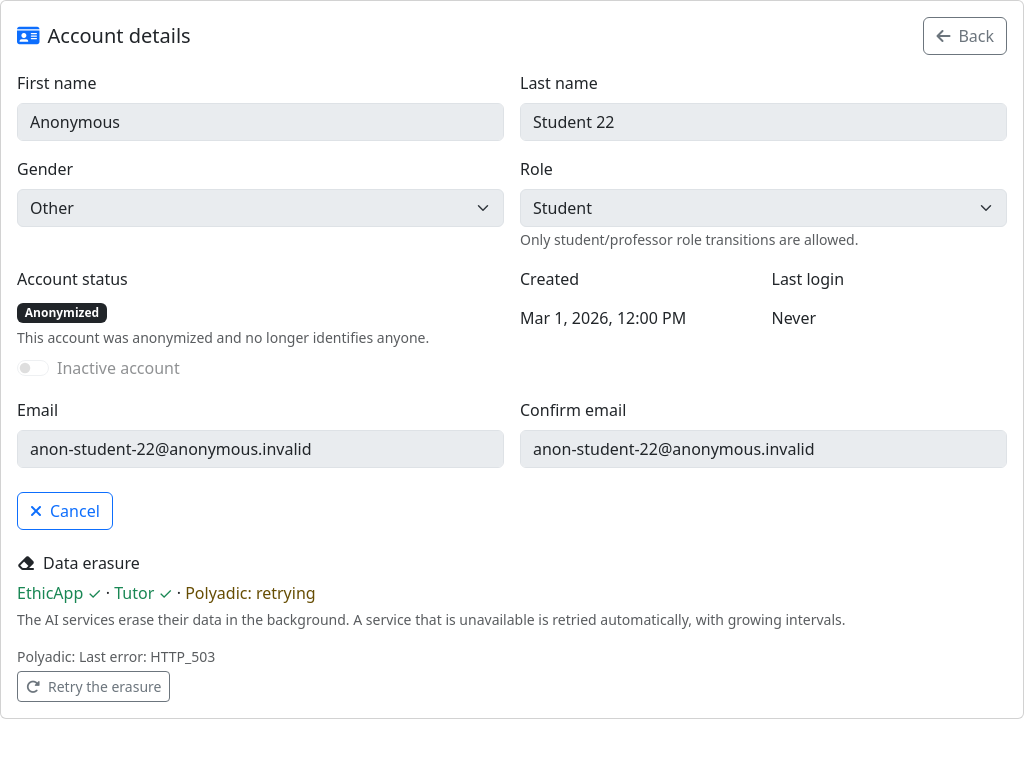
it: UserShowPage: erasure status of a forgotten student › shows each service and retries the ones that are not done
Expected: the text "Polyadic: Last error: HTTP_503" is shown, [17,647,215,666]
Step 1. Click the button "Retry the erasure" → (94, 687), box [17,671,170,702]
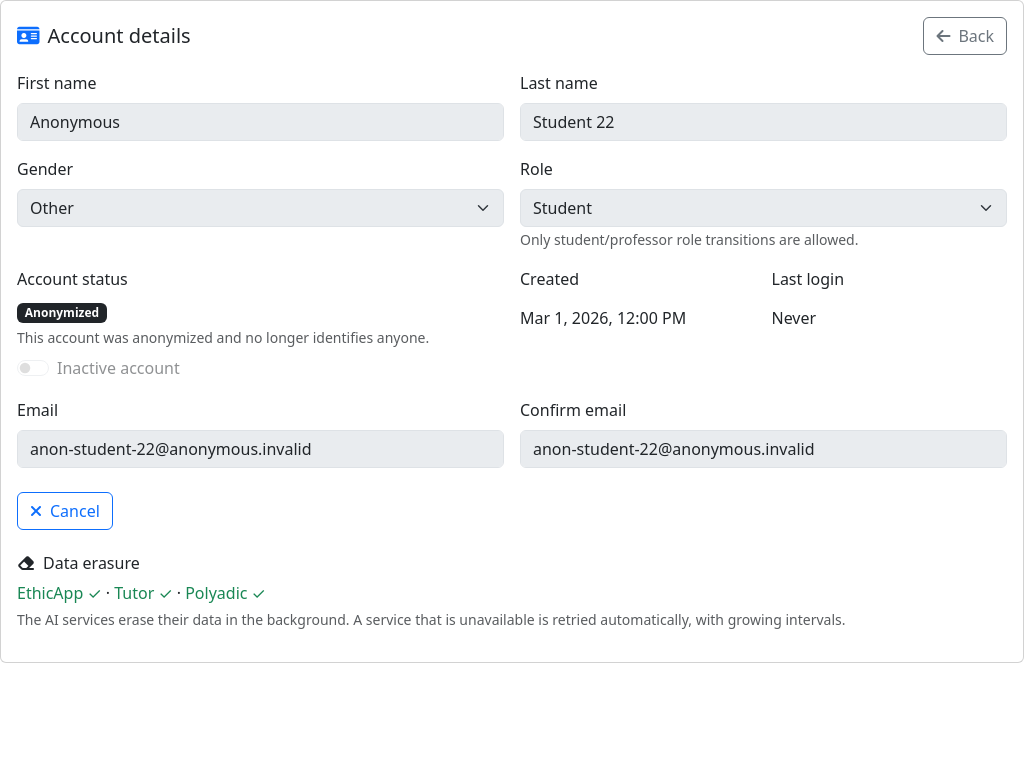
Now the element showing "EthicApp ✓ · Tutor ✓ · Polyadic ✓" is shown, box [17,582,266,604]
